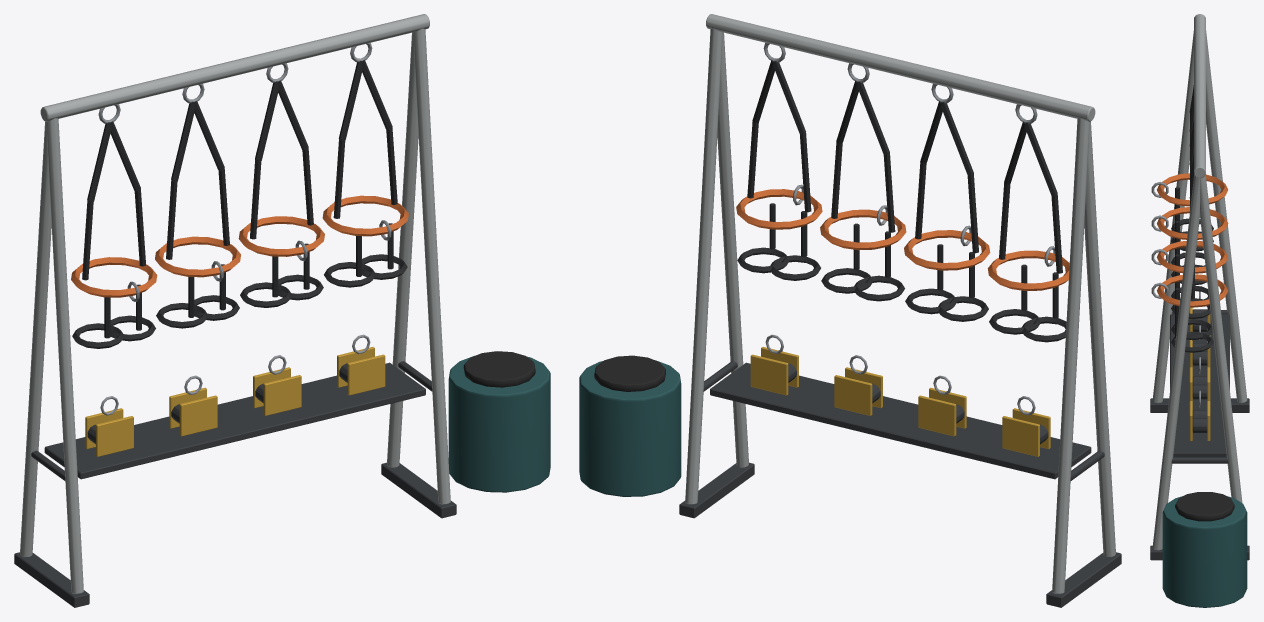
Rendered from prop_escape_zipline_rig.glb.
3 renders of one model, left to right at view 1: azimuth 30°, elevation 25°; view 2: azimuth 150°, elevation 25°; view 3: azimuth 270°, elevation 25°, orthographic. The views are drawn at different scales.
Parts seen in each view (by area): view 1: Rig, RopeBag; view 2: Rig, RopeBag; view 3: Rig, RopeBag.
Part boxes in pixels (x1,y1,x2,y2): Rig: [14, 14, 456, 607]; RopeBag: [448, 351, 550, 492]; Rig: [679, 14, 1121, 607]; RopeBag: [579, 355, 681, 496]; Rig: [1150, 14, 1249, 560]; RopeBag: [1162, 492, 1247, 607].
Bounding box in the file's own units: 1.92 × 1.75 × 0.4.
